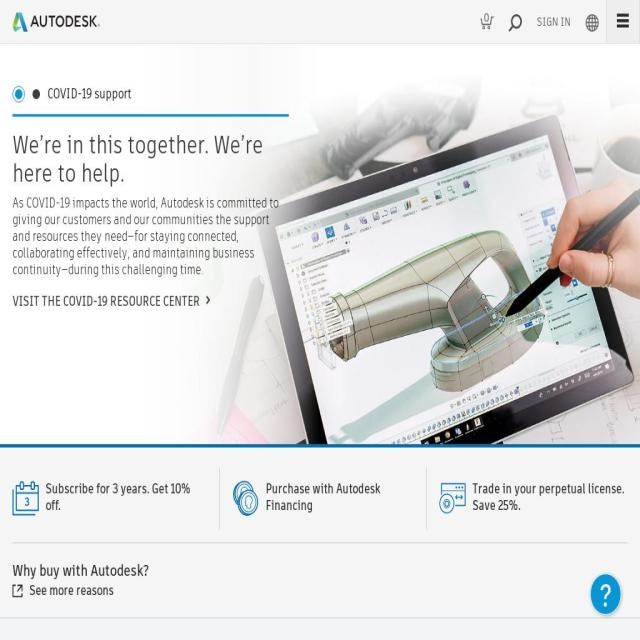button: (12, 584, 622, 598), (12, 481, 200, 516), (438, 481, 626, 516), (232, 481, 419, 516), (529, 0, 578, 43), (606, 0, 639, 43), (473, 0, 501, 43), (501, 0, 529, 43), (578, 0, 606, 43)
heading: (12, 131, 288, 187)
iframe: (578, 556, 634, 632)
image: (0, 44, 640, 444), (12, 13, 100, 32), (438, 481, 466, 516), (232, 481, 259, 516), (12, 481, 38, 516), (481, 13, 494, 32), (509, 13, 522, 32), (586, 13, 598, 32), (12, 584, 22, 598), (15, 89, 23, 99), (32, 89, 40, 99)
text: (12, 195, 288, 278), (12, 562, 622, 579), (468, 481, 626, 516), (45, 479, 191, 515), (265, 479, 381, 515), (12, 292, 200, 310), (45, 479, 152, 498), (28, 581, 114, 600), (537, 0, 571, 43), (47, 86, 132, 102), (265, 479, 336, 498), (617, 271, 640, 301), (473, 8, 499, 28)
